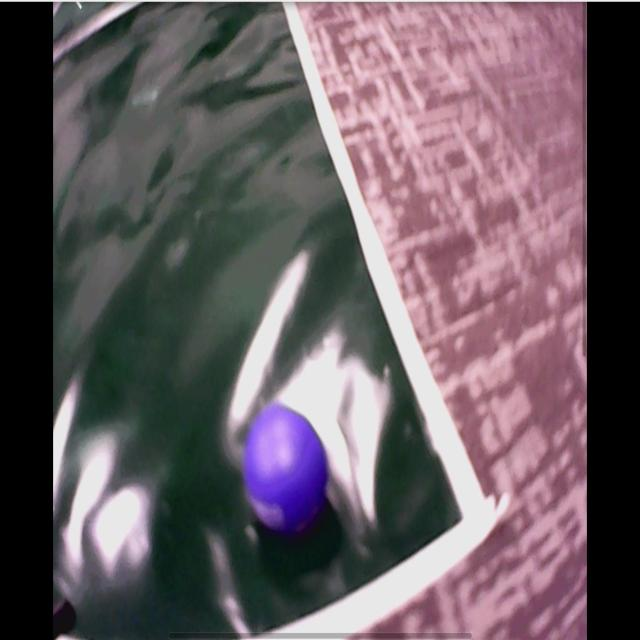ball: (246, 400, 330, 531)
